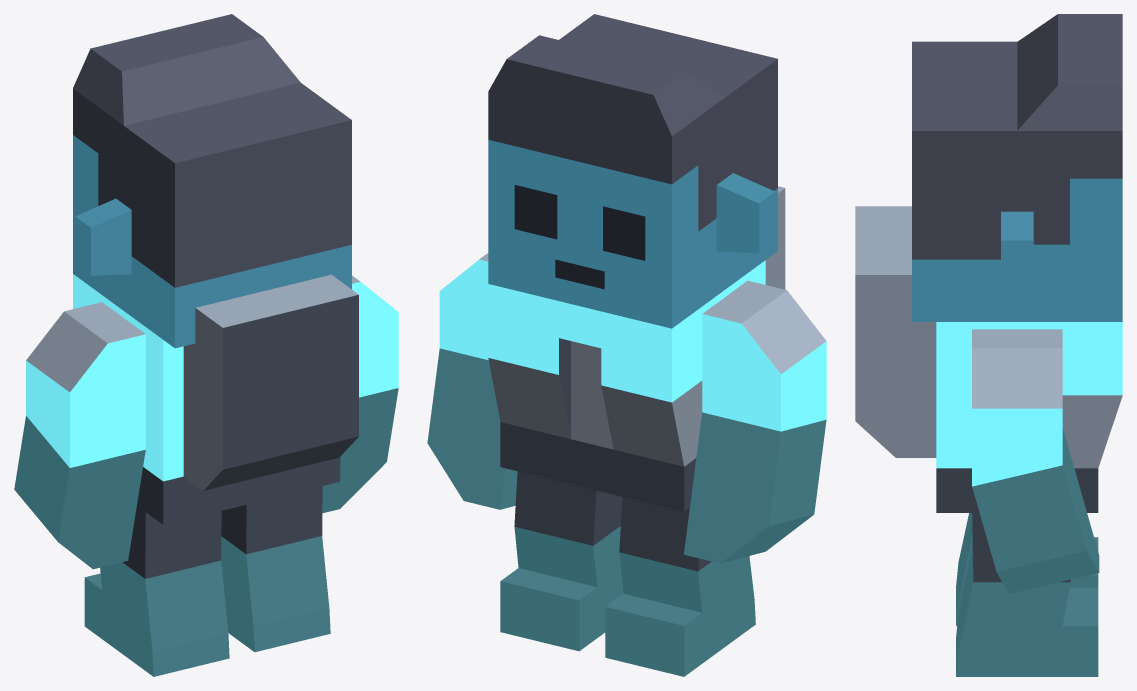
File: astronautA.glb
3 views of the same model, side by side, from view 1: azimuth 30°, elevation 25°; view 2: azimuth 150°, elevation 25°; view 3: azimuth 270°, elevation 25° (orthographic). The views are drawn at different scales.
Parts seen in each view (by area): view 1: head, body, armLeft, legLeft, legRight, armRight; view 2: head, body, armLeft, legLeft, legRight, armRight; view 3: head, body, armRight, legRight, legLeft.
Boxes of the visible parts, bbox=[...] form: head: bbox=[73, 14, 351, 348]; body: bbox=[73, 274, 358, 524]; armLeft: bbox=[14, 302, 145, 569]; legLeft: bbox=[84, 506, 229, 676]; legRight: bbox=[221, 486, 330, 652]; armRight: bbox=[322, 275, 398, 513]; head: bbox=[488, 14, 777, 328]; body: bbox=[488, 186, 785, 511]; armLeft: bbox=[684, 280, 826, 563]; legLeft: bbox=[605, 497, 755, 676]; legRight: bbox=[500, 471, 623, 651]; armRight: bbox=[427, 253, 517, 509]; head: bbox=[912, 14, 1122, 321]; body: bbox=[855, 206, 1122, 512]; armRight: bbox=[972, 329, 1099, 593]; legRight: bbox=[956, 513, 1098, 676]; legLeft: bbox=[956, 513, 1098, 625].
Size of the model in its own units: 0.4832 by 0.7932 by 0.33.
